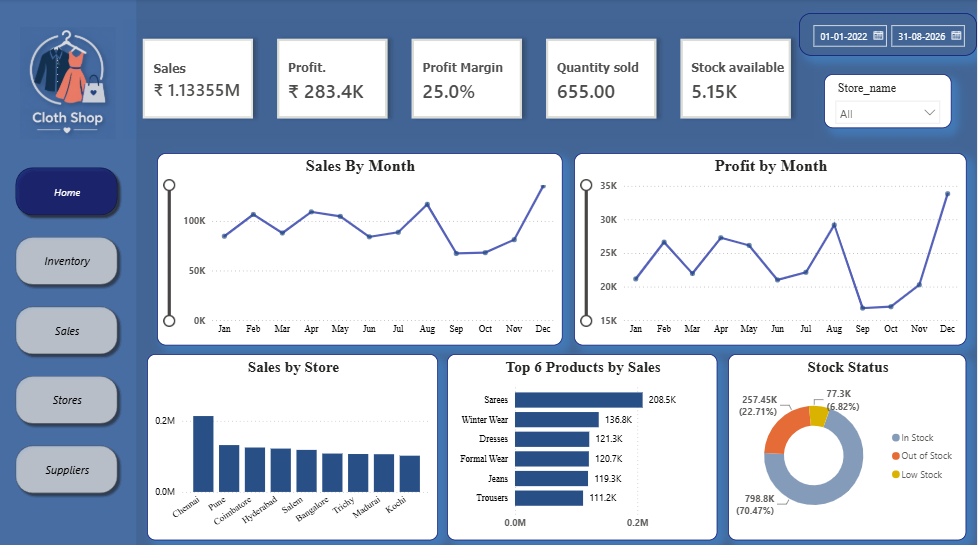

The dashboard page shown, as its layout file describes it:
{"tool":"powerbi","page":{"name":"Home","canvas":[1280,720],"ordinal":0},"visuals":[{"type":"cardVisual","fields":{"Data":["INVENTORY_SALES.Total sales","INVENTORY_SALES.Total profit","INVENTORY_SALES.Profit Margin %","INVENTORY_SALES.Quantity sold","INVENTORY_SALES.Stock available"]},"box":[162.7,25.9,904.3,157],"z":0},{"type":"lineChart","title":" Profit by Month","fields":{"Y":["INVENTORY_SALES.Total profit"],"Category":["DATES.MONTH"]},"box":[752.5,201.6,514,252],"z":1000},{"type":"lineChart","title":"Sales By Month","fields":{"Y":["INVENTORY_SALES.Total sales"],"Category":["DATES.MONTH"]},"box":[206.6,201.6,530.8,252],"z":2000},{"type":"shape","box":[0,1.7,179.7,719],"z":3000},{"type":"columnChart","title":"Sales by Store","fields":{"Category":["STORES.CITY"],"Y":["INVENTORY_SALES.Total sales"]},"box":[193.2,465.3,381.3,243.6],"z":4000},{"type":"barChart","title":"Top 6 Products by Sales","fields":{"Category":["PRODUCTS.CATEGORY"],"Y":["INVENTORY_SALES.Total sales"]},"box":[586.2,465.3,354.4,243.6],"z":5000},{"type":"donutChart","title":"Stock Status","fields":{"Category":["INVENTORY_SALES.Stock Status"],"Y":["INVENTORY_SALES.Total sales"]},"box":[954.1,465.3,312.4,243.6],"z":6000},{"type":"pageNavigator","box":[14.4,213.1,148.3,443.5],"z":7000},{"type":"slicer","fields":{"Values":["STORES.STORE_NAME"]},"box":[1080,97.9,167,70.6],"z":8000},{"type":"slicer","fields":{"Values":["DATES.Date"]},"box":[1046.9,18.7,233.3,56.2],"z":9000},{"type":"image","box":[10.1,36,158.4,146.9],"z":10000}]}

Visuals, with their boxes in screenshot pixels (x1, y1, x2, y2), scaled from the page's 1280x720 canvas onto the 978x545 screenshot:
cardVisual - INVENTORY_SALES.Total sales x INVENTORY_SALES.Total profit: 124/20/815/138
" Profit by Month" lineChart: 575/153/968/343
"Sales By Month" lineChart: 158/153/563/343
shape: 0/1/137/544
"Sales by Store" columnChart: 148/352/439/537
"Top 6 Products by Sales" barChart: 448/352/719/537
"Stock Status" donutChart: 729/352/968/537
pageNavigator: 11/161/124/497
slicer - STORES.STORE_NAME: 825/74/953/128
slicer - DATES.Date: 800/14/977/57
image: 8/27/129/138
